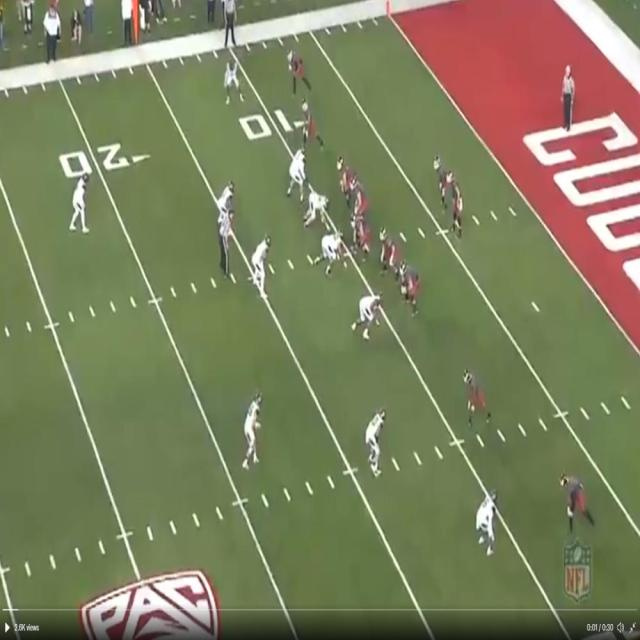center: (351, 212, 368, 247)
db: (243, 391, 261, 471), (366, 410, 388, 474), (476, 492, 496, 552), (72, 172, 90, 229), (226, 55, 239, 101)
lb: (287, 144, 308, 196), (251, 236, 269, 292), (219, 177, 235, 213)
qb: (448, 168, 462, 235)
skill: (560, 472, 591, 522), (463, 369, 485, 426), (287, 49, 308, 98), (300, 96, 316, 147), (433, 156, 446, 208)
